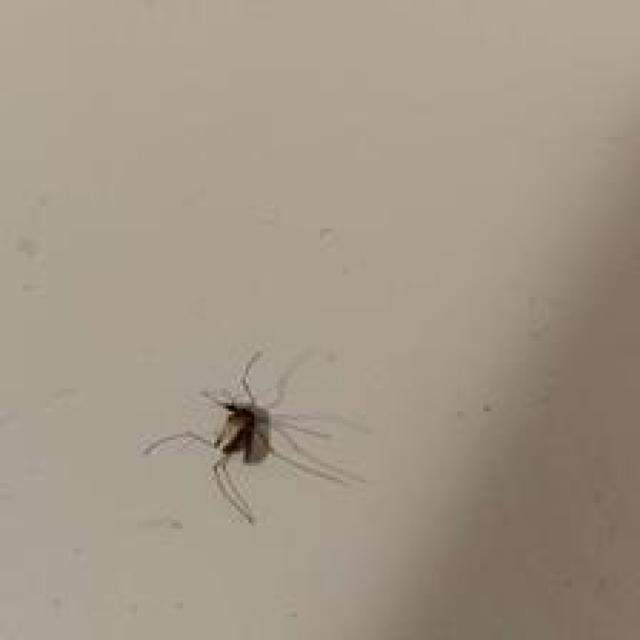Culex: (141, 346, 373, 526)
